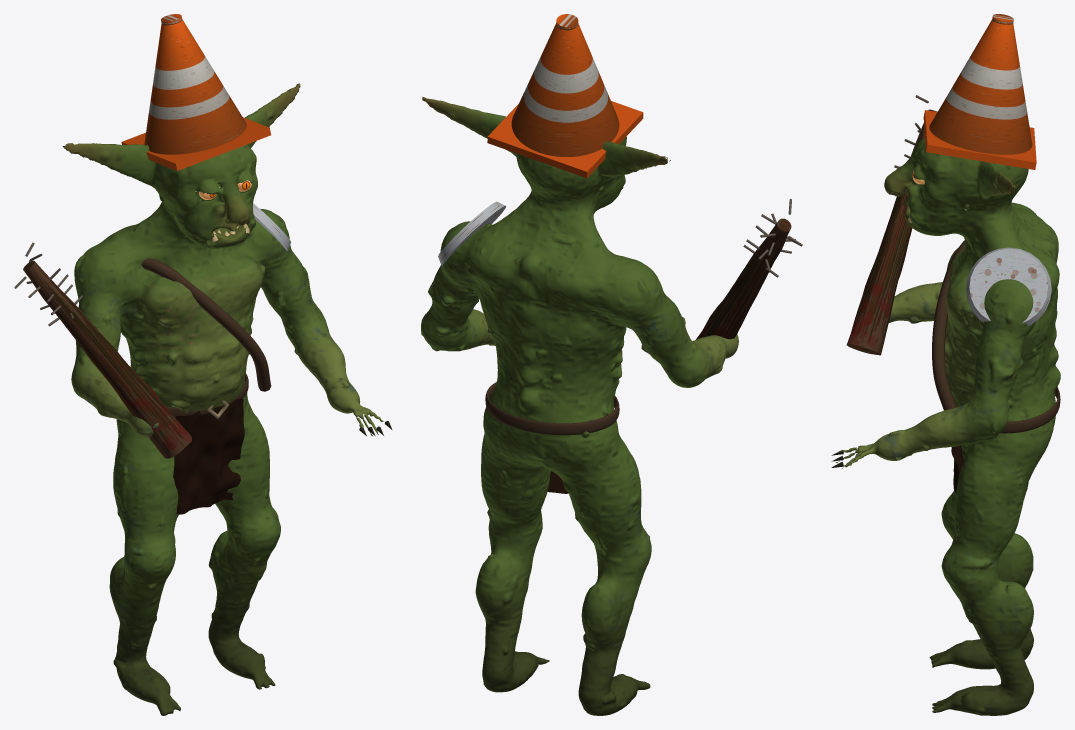
Rendered from goblin_v4.glb.
The picture shows the model from 3 angles, left to right: view 1: azimuth 30°, elevation 25°; view 2: azimuth 150°, elevation 25°; view 3: azimuth 270°, elevation 25°; orthographic projection. The views are drawn at different scales.
Parts seen in each view (by area): view 1: object 1, helmet, weapon, object 21, object 20; view 2: object 1, helmet, weapon, object 18, hubcap; view 3: object 1, helmet, weapon, hubcap, object 20, object 18.
Boxes of the visible parts, box(x1,y1,x2,y2) form: object 1: box(62, 83, 385, 715); helmet: box(121, 14, 271, 170); weapon: box(14, 242, 191, 458); object 21: box(173, 398, 244, 514); object 20: box(141, 258, 271, 391); object 1: box(421, 97, 738, 715); helmet: box(487, 14, 643, 178); weapon: box(696, 199, 802, 339); object 18: box(485, 382, 619, 435); hubcap: box(438, 201, 506, 265); object 1: box(835, 136, 1060, 715); helmet: box(923, 14, 1036, 169); weapon: box(846, 95, 937, 355); hubcap: box(966, 247, 1051, 325); object 20: box(932, 240, 964, 410); object 18: box(1000, 387, 1060, 433).
Size of the model in its own units: 1.09 by 2.06 by 0.6414.
12 materials, 6 textured.
